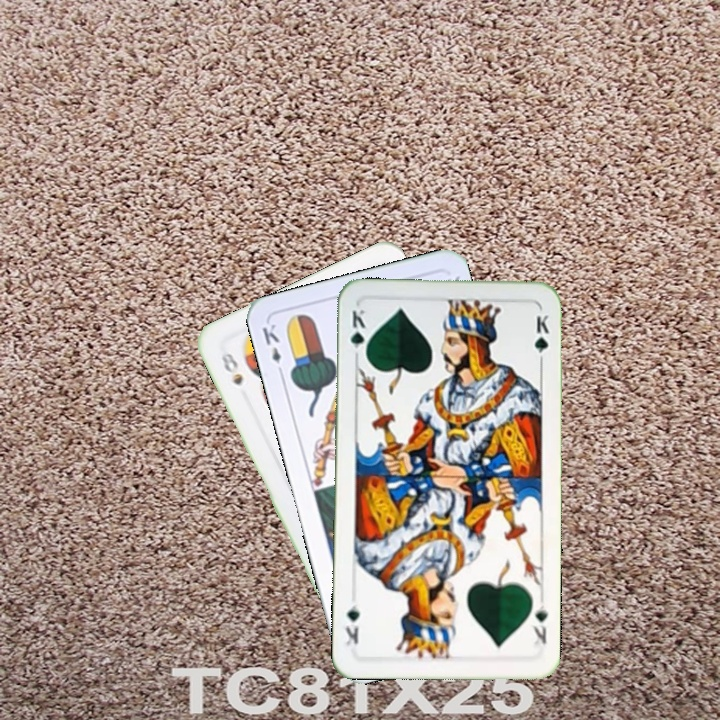EK: (258, 319, 287, 379)
GK: (346, 305, 369, 362), (529, 595, 550, 647)
S8: (217, 348, 246, 388)
